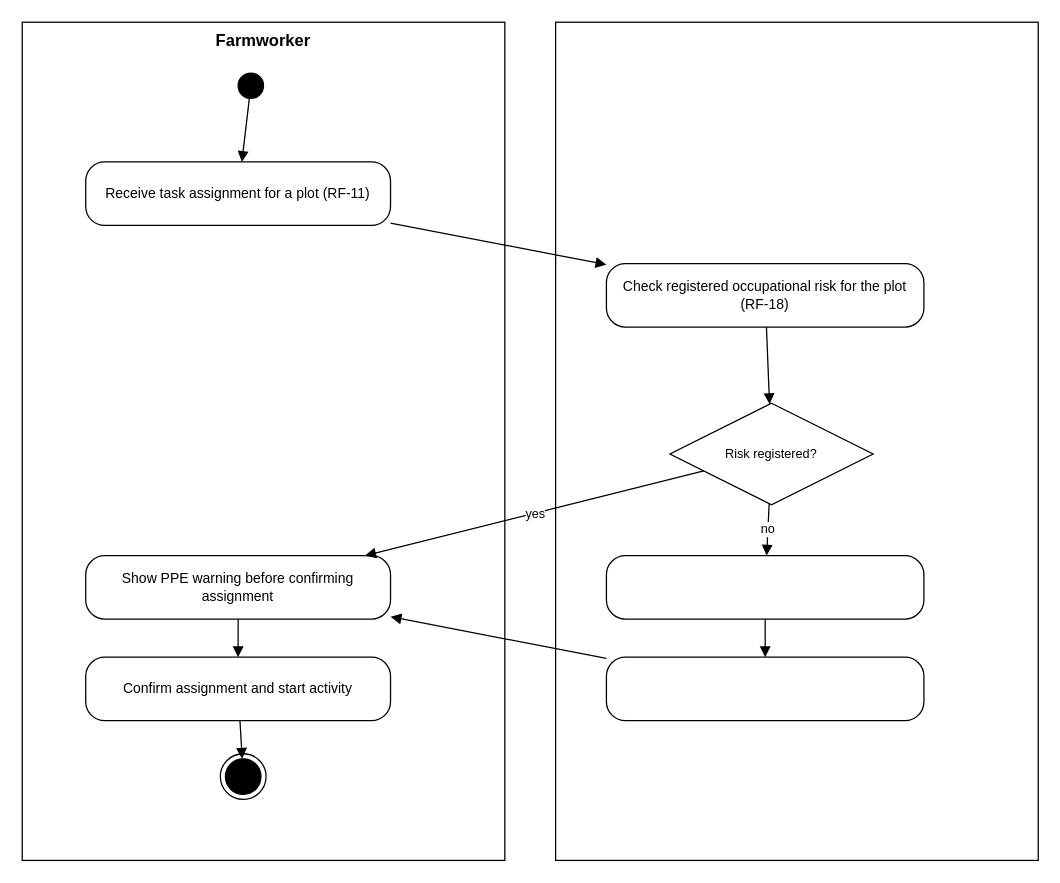
The diagram is 1060 pixels wide and 883 high, and some of its shapes have lost their labels. Each missing label, with the box of its shape:
Attach worker health certificate (RF-24): (605, 656, 924, 721)
Register risk type, severity and suggested PPE (RF-18): (605, 554, 924, 619)
Technician: (554, 21, 1038, 860)
